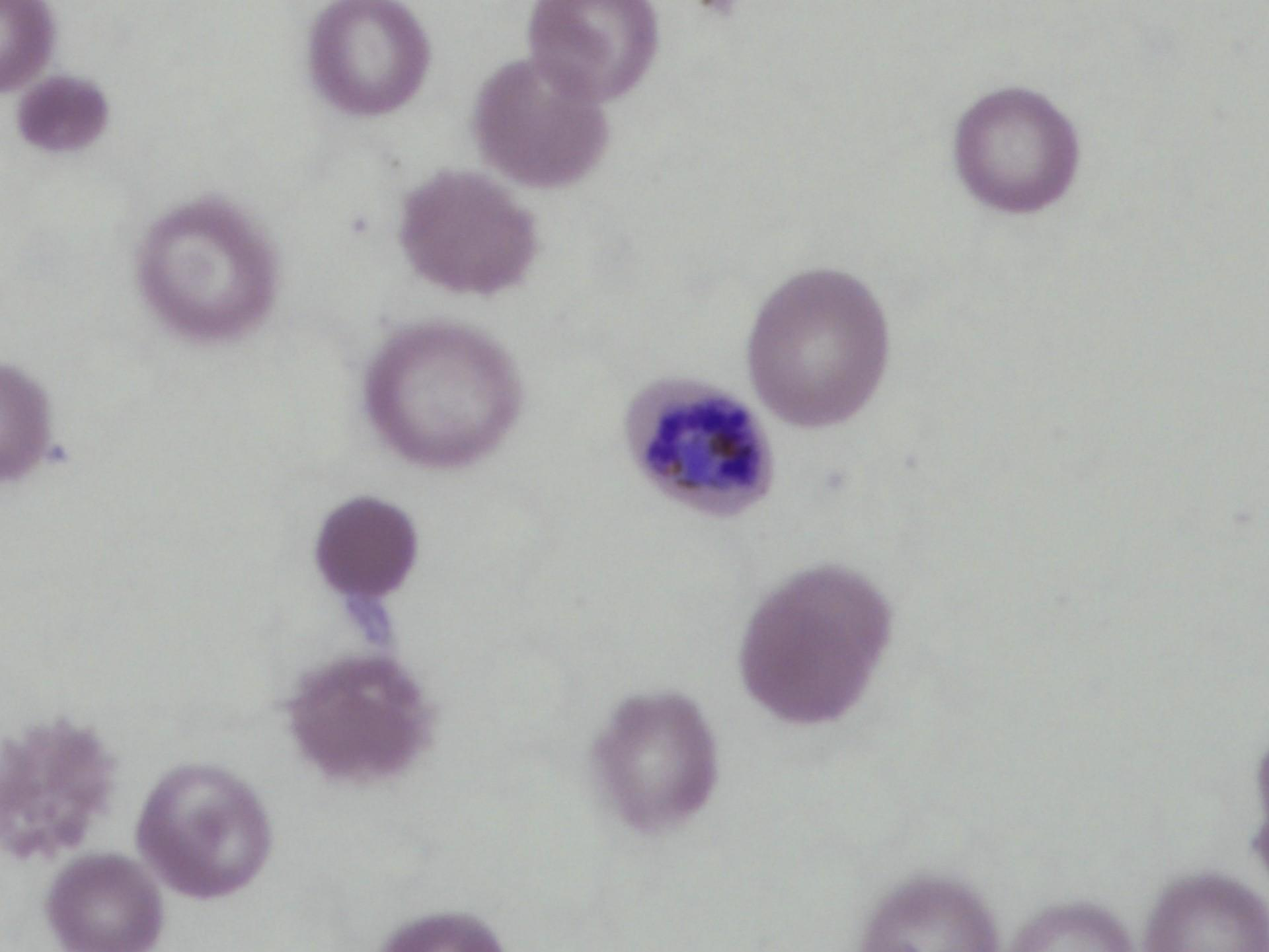Infected: (628, 373, 773, 519)
Uninfected: (747, 562, 890, 729), (361, 327, 524, 470), (749, 271, 888, 422), (137, 195, 281, 338), (136, 766, 268, 897), (399, 170, 536, 293), (295, 655, 429, 780), (950, 85, 1081, 211), (477, 63, 607, 186), (595, 703, 714, 832), (0, 720, 112, 855), (305, 0, 429, 110), (540, 0, 657, 97), (48, 854, 160, 951), (863, 877, 991, 952), (319, 498, 416, 596), (1149, 877, 1266, 951), (20, 76, 110, 150)
